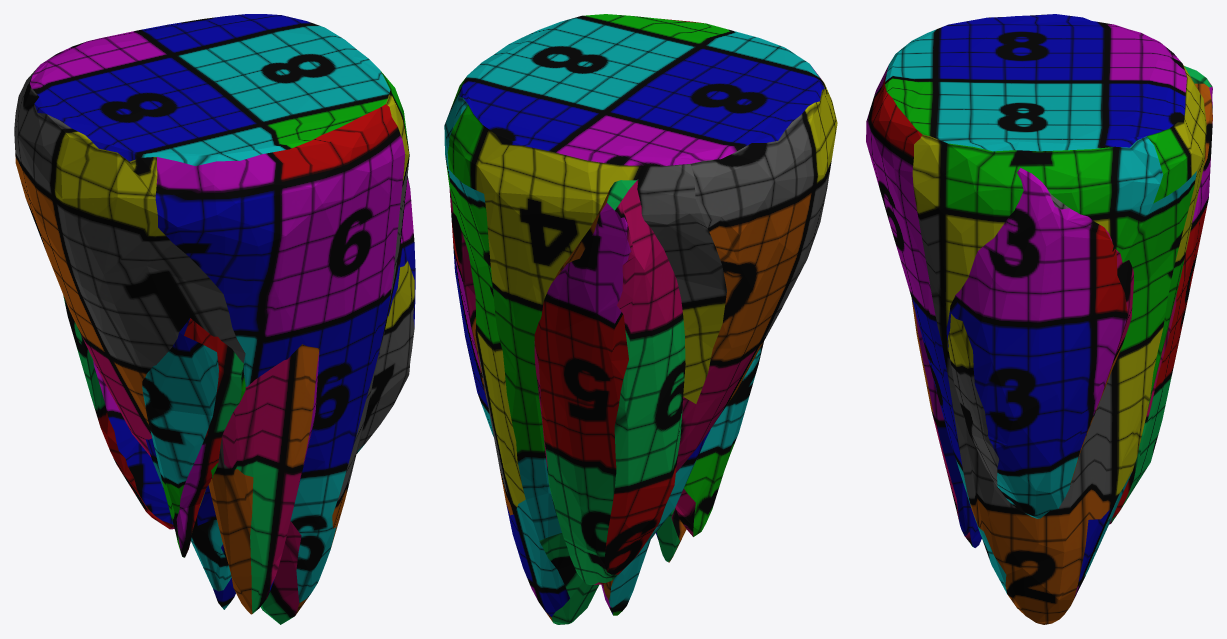
File: rock_spike_platform.fbx
The picture shows the model from 3 angles, left to right: view 1: azimuth 30°, elevation 25°; view 2: azimuth 150°, elevation 25°; view 3: azimuth 270°, elevation 25°; orthographic projection. The views are drawn at different scales.
Parts seen in each view (by area): view 1: pCube37; view 2: pCube37; view 3: pCube37.
Part boxes in pixels (bbox=[...]): pCube37: bbox=[14, 14, 415, 624]; pCube37: bbox=[444, 14, 837, 624]; pCube37: bbox=[866, 14, 1212, 624].
Bounding box in the file's own units: 3.2 × 4.84 × 2.98.
Materials: 1 (1 with a texture image).
